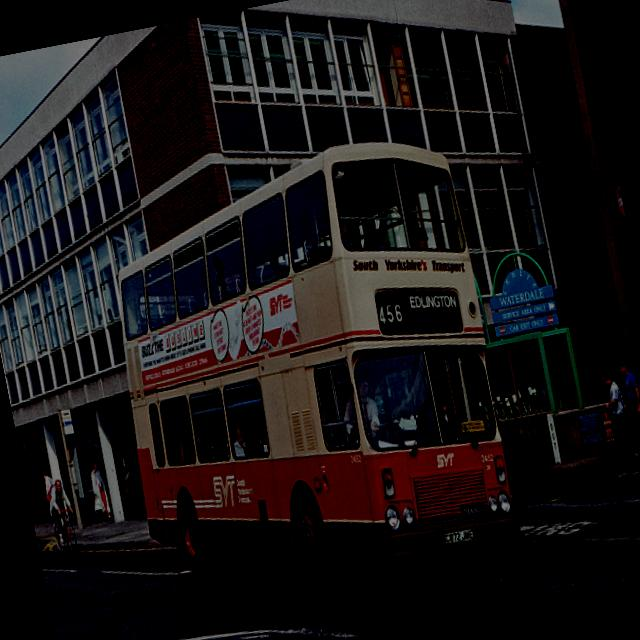Vehicle: (84, 128, 526, 617)
